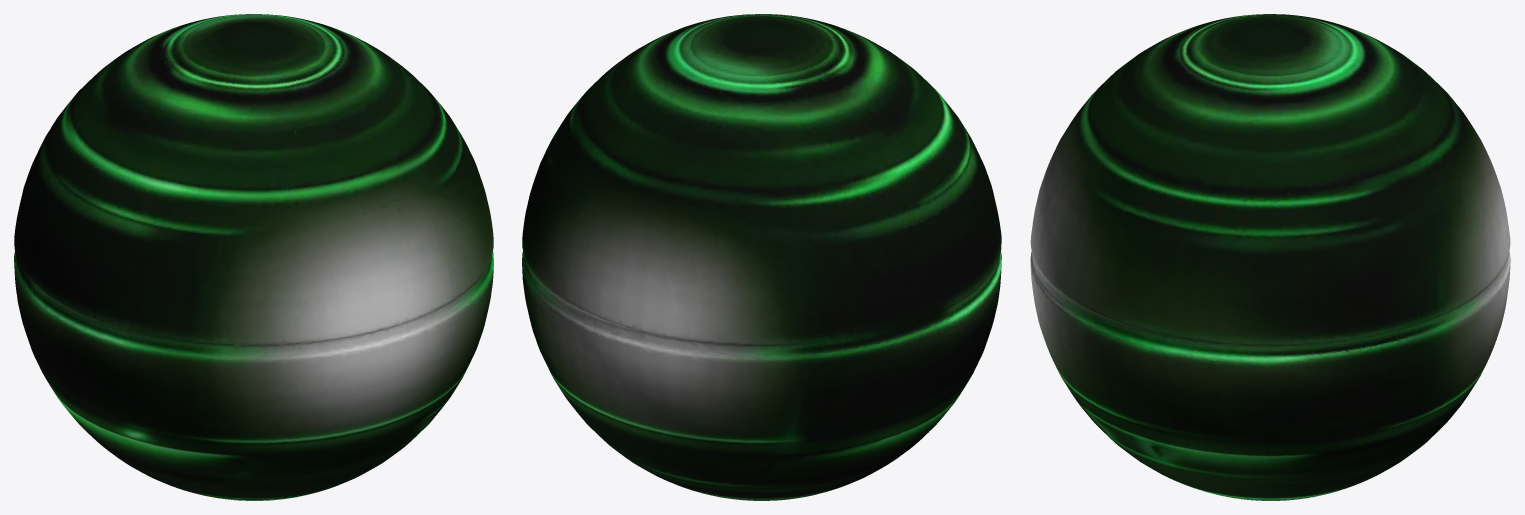
Rendered from tak-orb.glb.
3 views of the same model, side by side, from view 1: azimuth 30°, elevation 25°; view 2: azimuth 150°, elevation 25°; view 3: azimuth 270°, elevation 25° (orthographic).
Parts seen in each view (by area): view 1: world; view 2: world; view 3: world.
Boxes of the visible parts, x1,y1,x2,y2 form: world: (14, 14, 493, 500); world: (522, 14, 1001, 500); world: (1030, 14, 1510, 500).
Size of the model in its own units: 0.9803 by 1 by 0.9805.
Materials: 1 (1 with a texture image).
